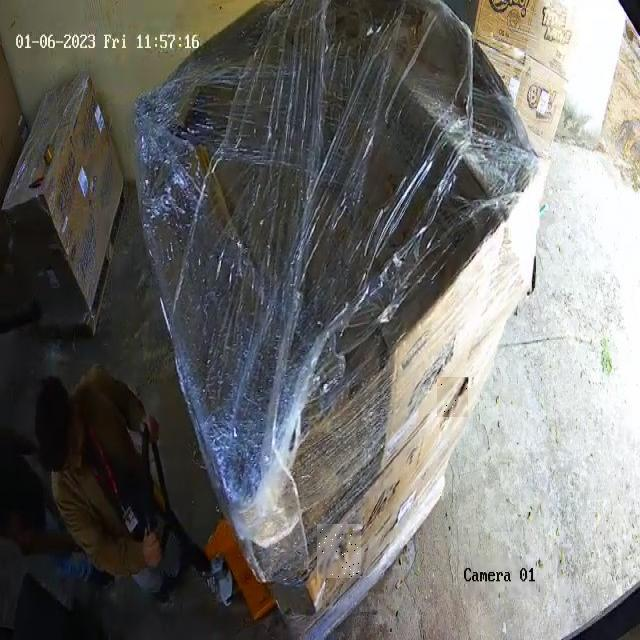leakage: (318, 524, 359, 578), (438, 378, 467, 416)
